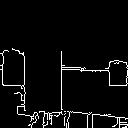cube: (0, 46, 32, 90), (102, 57, 128, 91)
